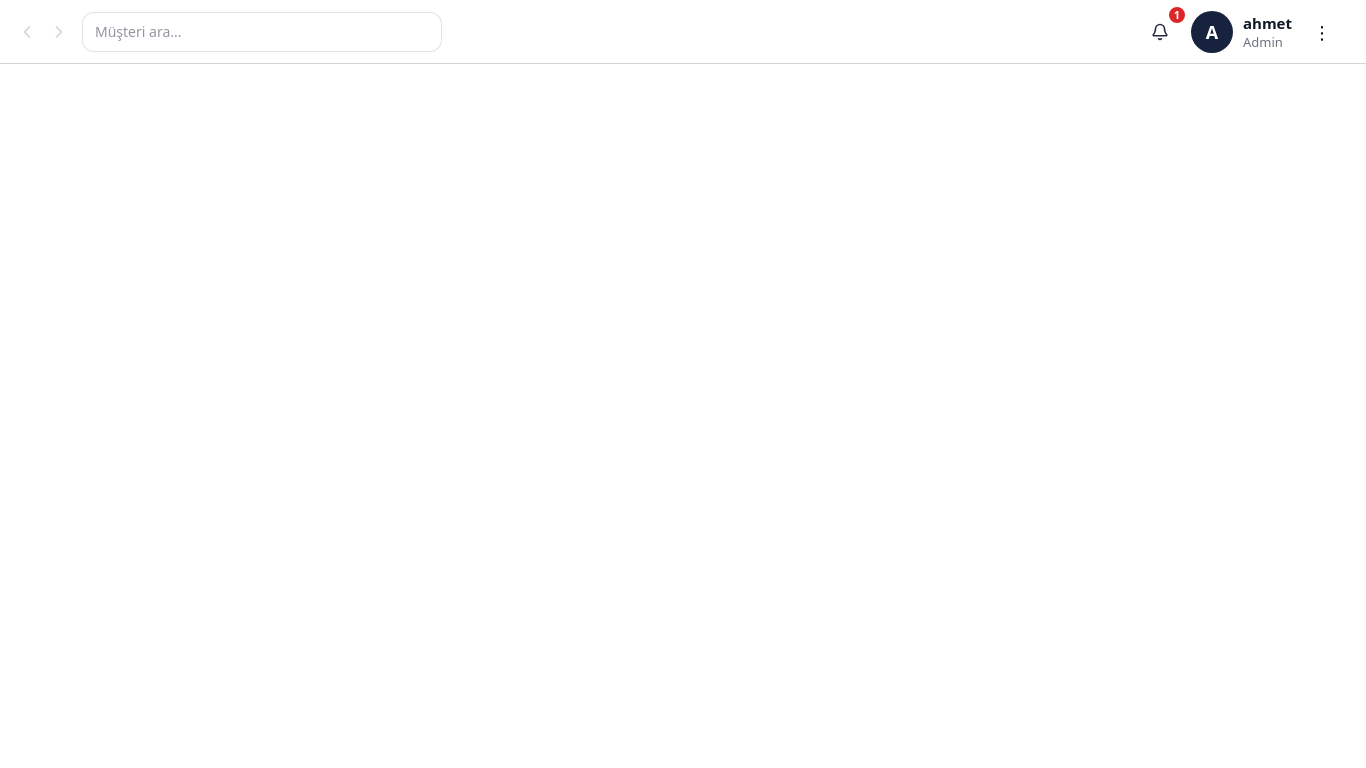
Header › notification menu › loads an older week and shows end message when empty
Click the button named "Bildirimler". click: (1160,32)
box: [1139, 10, 1181, 52]
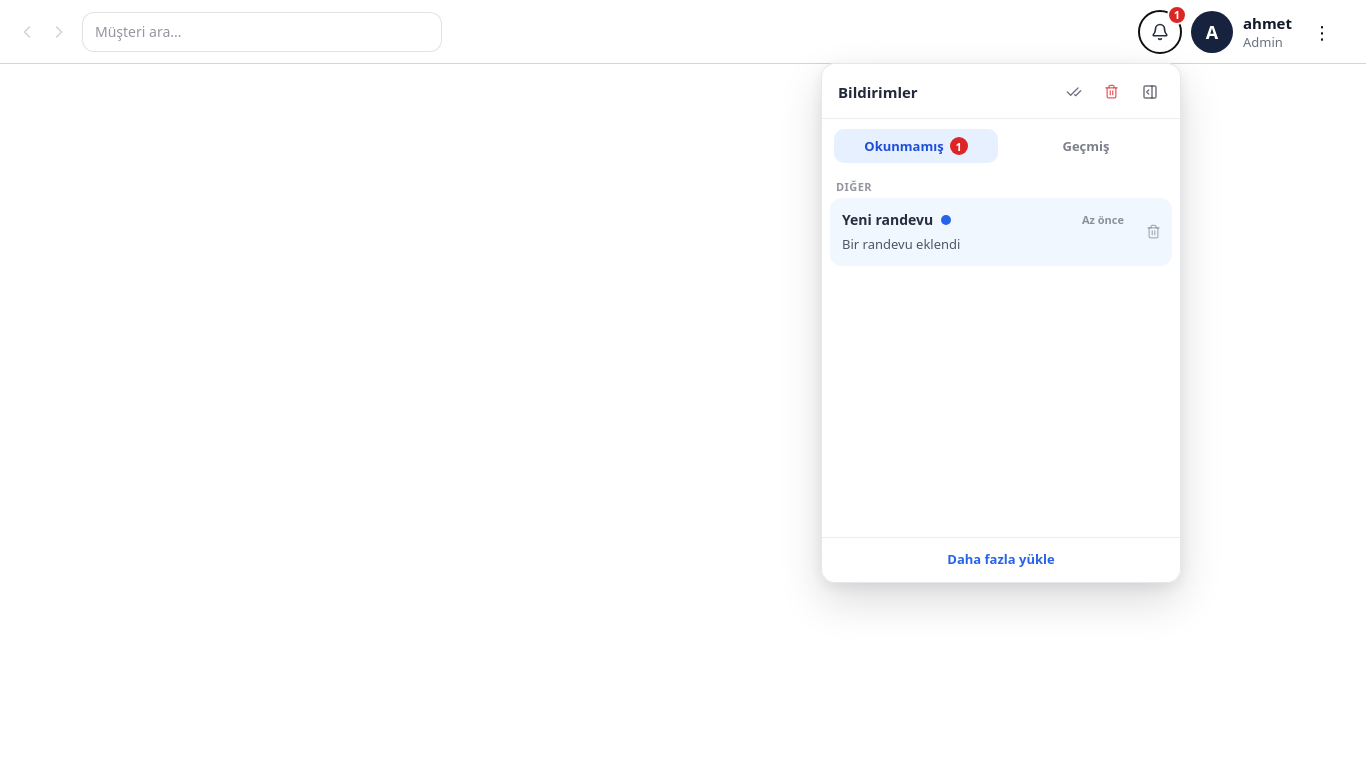
Click the button "Daha fazla yükle". click: (1001,558)
box: [947, 550, 1055, 568]
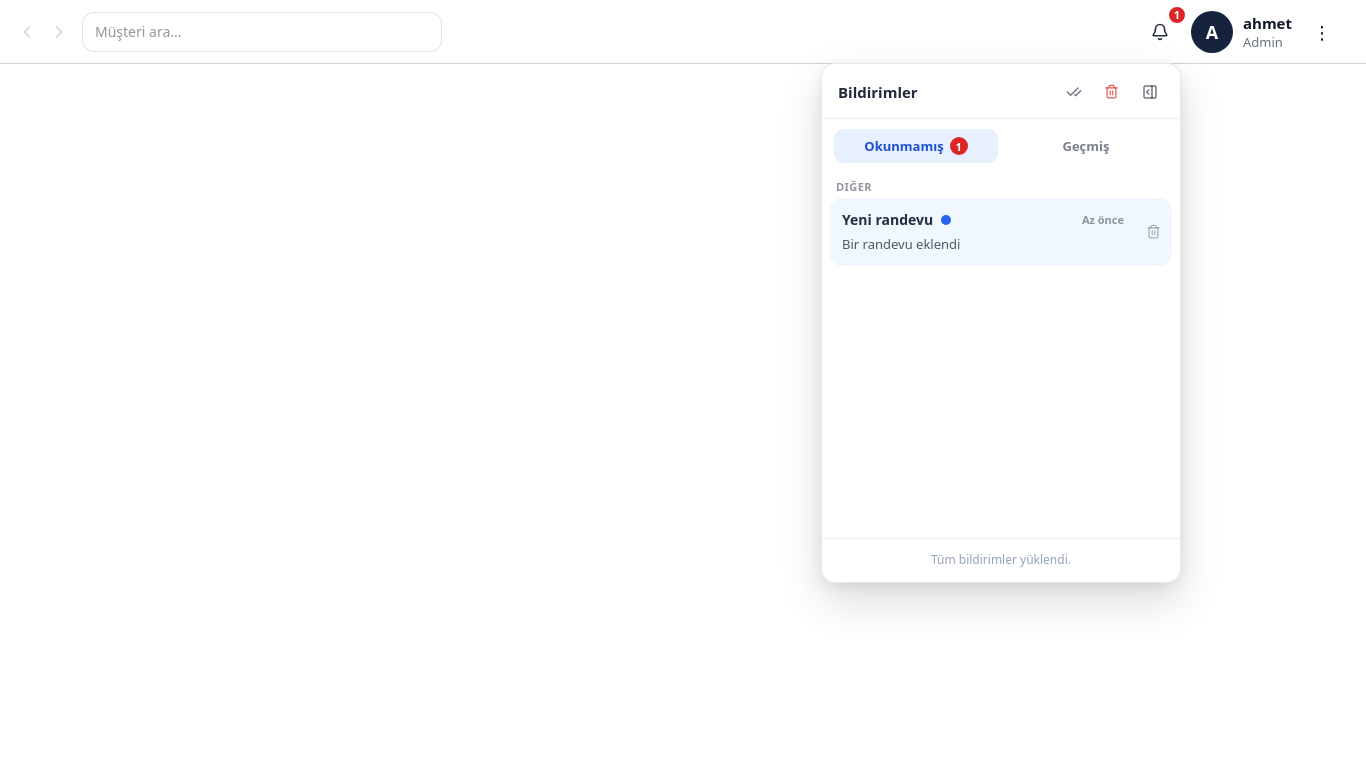
Expected: the text "Tüm bildirimler yüklendi." is shown, [931, 550, 1071, 568]
